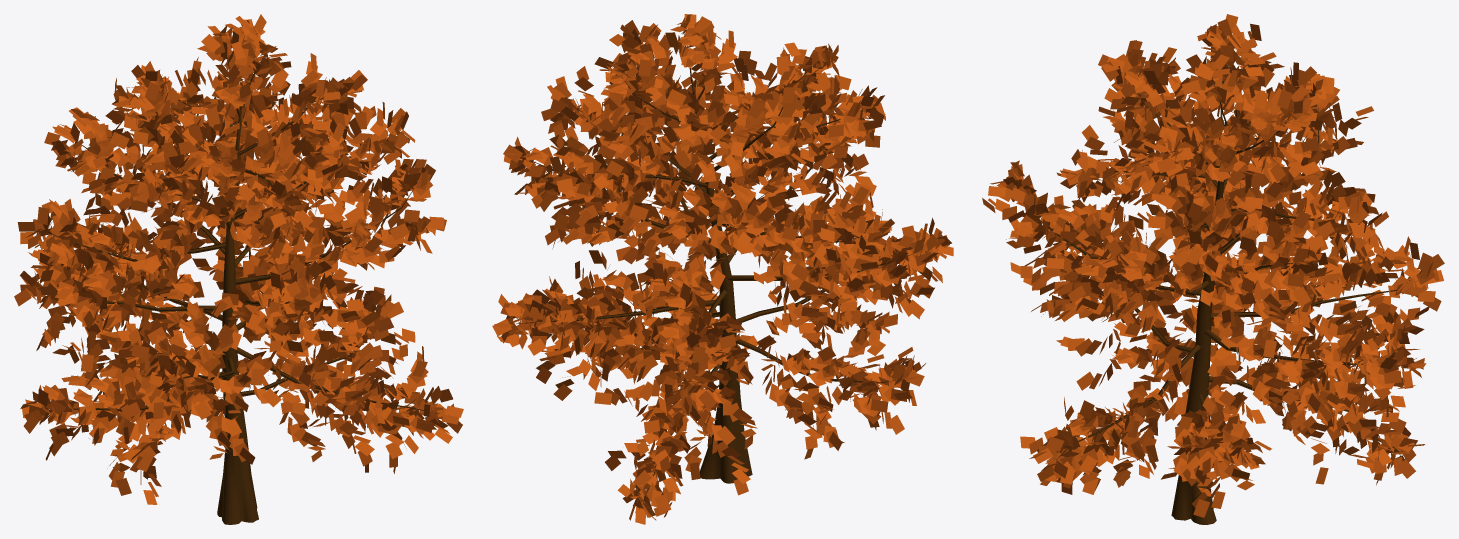
The model's file is Baum 8.FBX.
3 renders of one model, left to right at view 1: azimuth 30°, elevation 25°; view 2: azimuth 150°, elevation 25°; view 3: azimuth 270°, elevation 25°, orthographic. The views are drawn at different scales.
Parts seen in each view (by area): view 1: Foliage004; view 2: Foliage004; view 3: Foliage004.
Boxes of the visible parts, box(x1,y1,x2,y2) form: Foliage004: box(14, 14, 463, 524); Foliage004: box(492, 14, 953, 524); Foliage004: box(982, 14, 1444, 524).
Size of the model in its own units: 937 by 1075 by 933.
